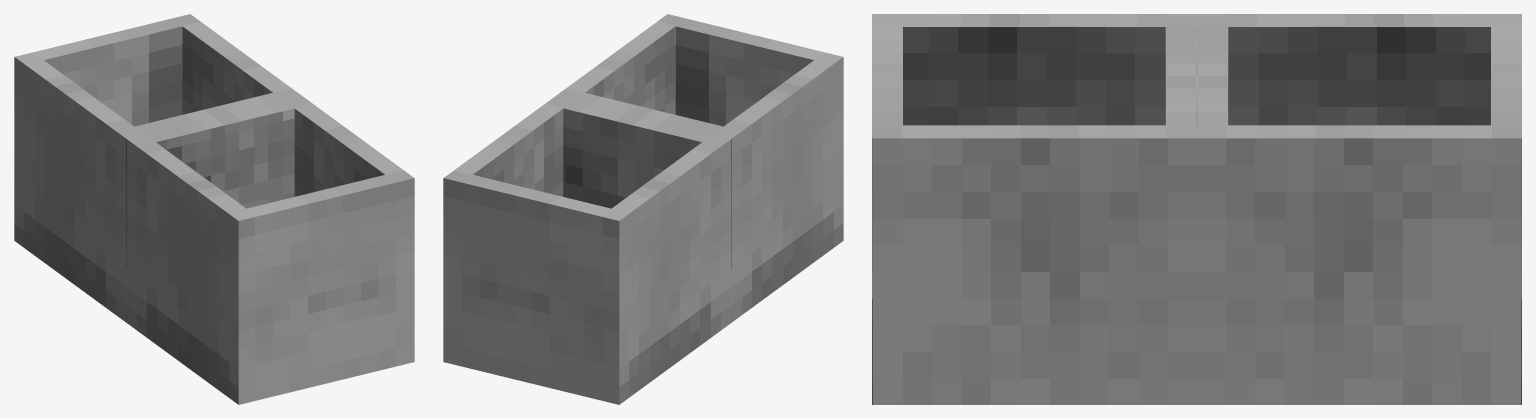
The model's file is brick.fbx.
The picture shows the model from 3 angles, left to right: view 1: azimuth 30°, elevation 25°; view 2: azimuth 150°, elevation 25°; view 3: azimuth 270°, elevation 25°; orthographic projection. The views are drawn at different scales.
Visible parts, largest first — view 1: Куб; view 2: Куб; view 3: Куб.
Part boxes in pixels (<box>): Куб: <box>14,14,414,404</box>; Куб: <box>443,14,843,404</box>; Куб: <box>872,14,1521,404</box>.
Bounding box in the file's own units: 14.6 × 14.6 × 32.24.
Materials: 1 (1 with a texture image).
